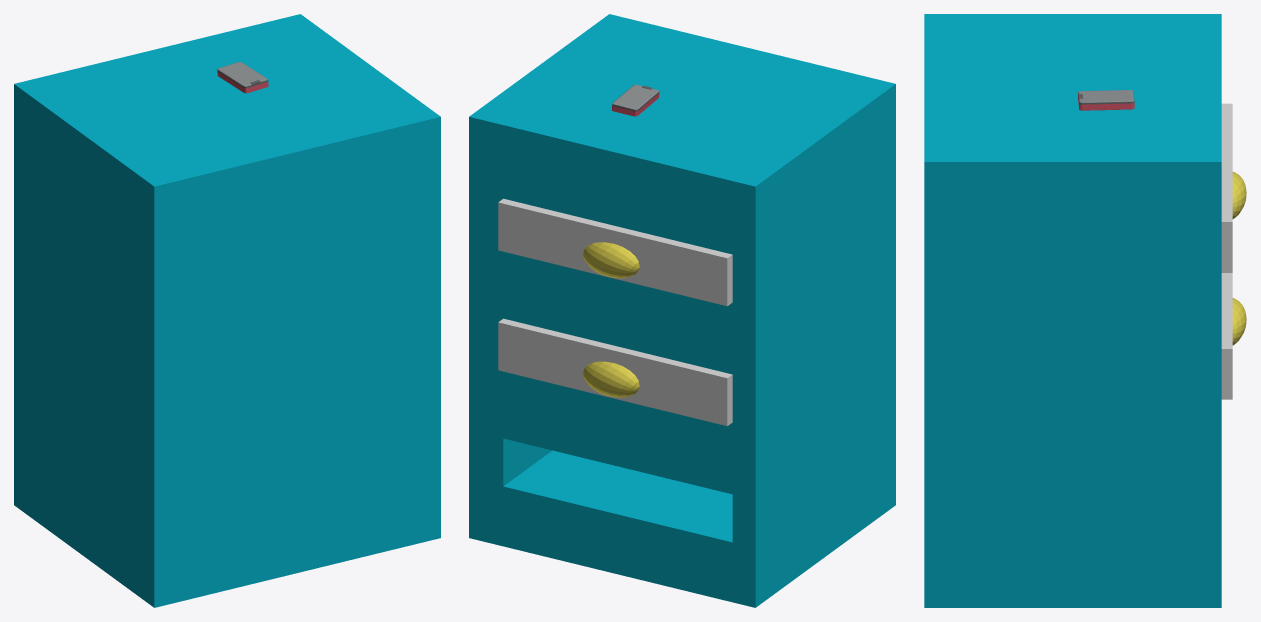
Rendered from Iphone on the table.glb.
3 views of the same model, side by side, from view 1: azimuth 30°, elevation 25°; view 2: azimuth 150°, elevation 25°; view 3: azimuth 270°, elevation 25° (orthographic). The views are drawn at different scales.
Parts seen in each view (by area): view 1: Mesh_Mesh_head_geo.001_lambert2SG.001; view 2: Mesh_Mesh_head_geo.001_lambert2SG.001; view 3: Mesh_Mesh_head_geo.001_lambert2SG.001.
Part boxes in pixels (left/top/right/bottom): Mesh_Mesh_head_geo.001_lambert2SG.001: left=14, top=14, right=440, bottom=607; Mesh_Mesh_head_geo.001_lambert2SG.001: left=469, top=14, right=895, bottom=607; Mesh_Mesh_head_geo.001_lambert2SG.001: left=924, top=14, right=1246, bottom=607.
Bounding box in the file's own units: 25 × 35.8 × 23.
